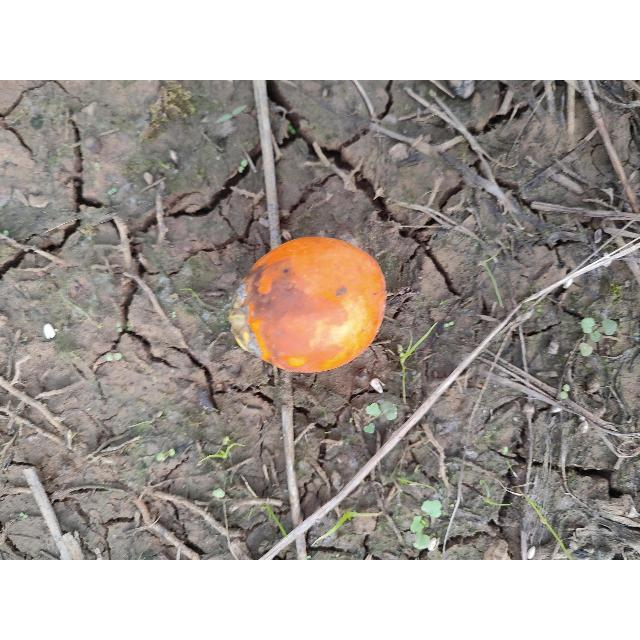good: (229, 237, 388, 375)
